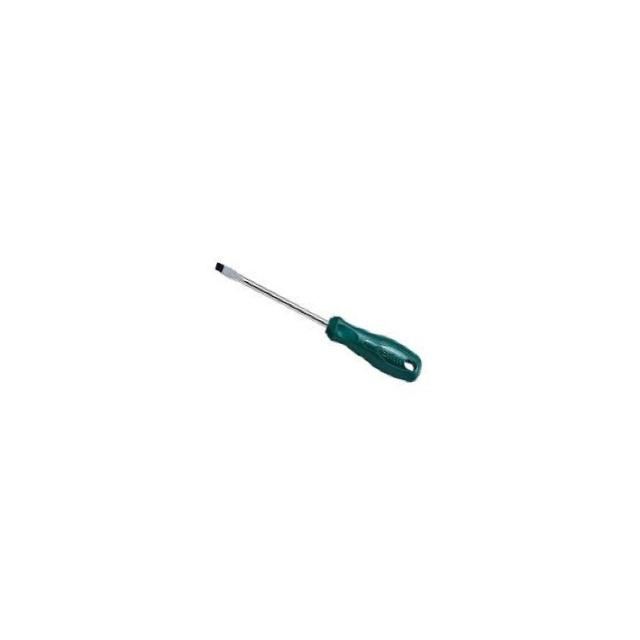screwdriver: (213, 240, 424, 403)
